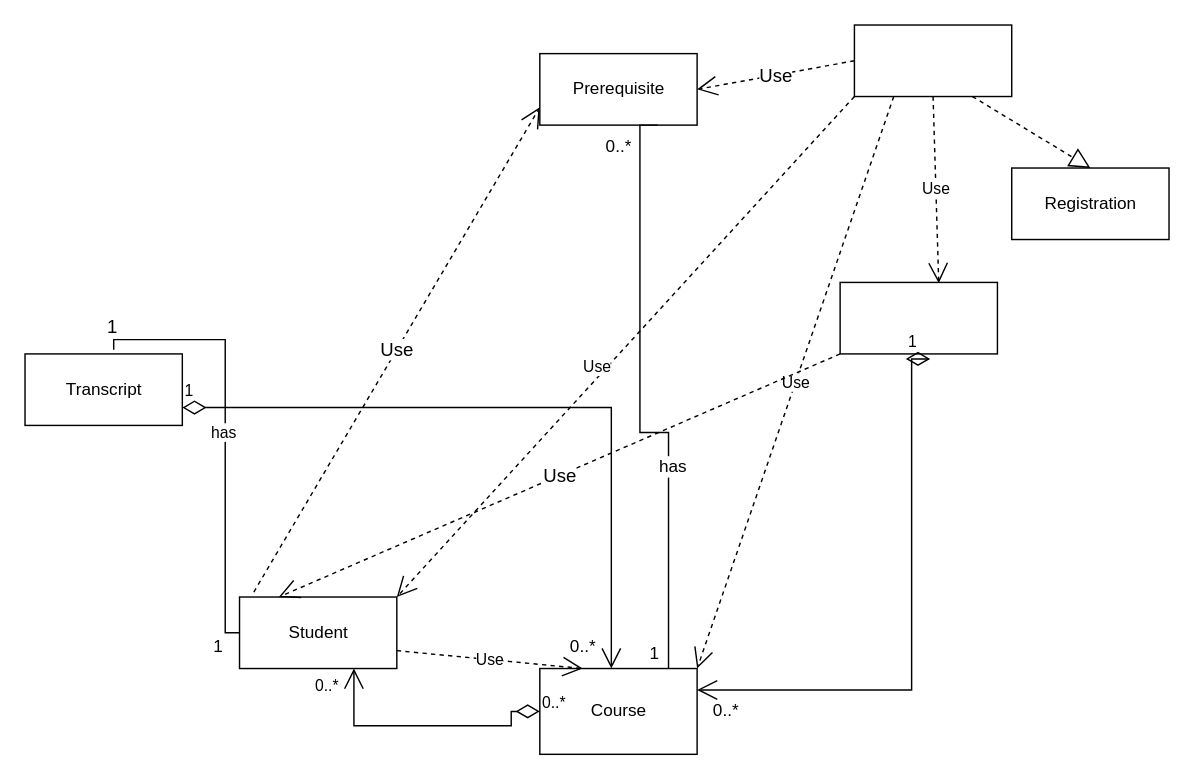
The diagram is 1194 pixels wide and 779 high, and some of its shapes have lost their labels. The centre of each missing label's shape, as x and y in pixels:
CourseCatalog: the point at 918,317
RegistrationImpl: the point at 932,60
